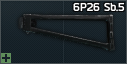AKS-74U metal skeleton stock 6P26 Sb.5: (0, 0, 127, 64)
